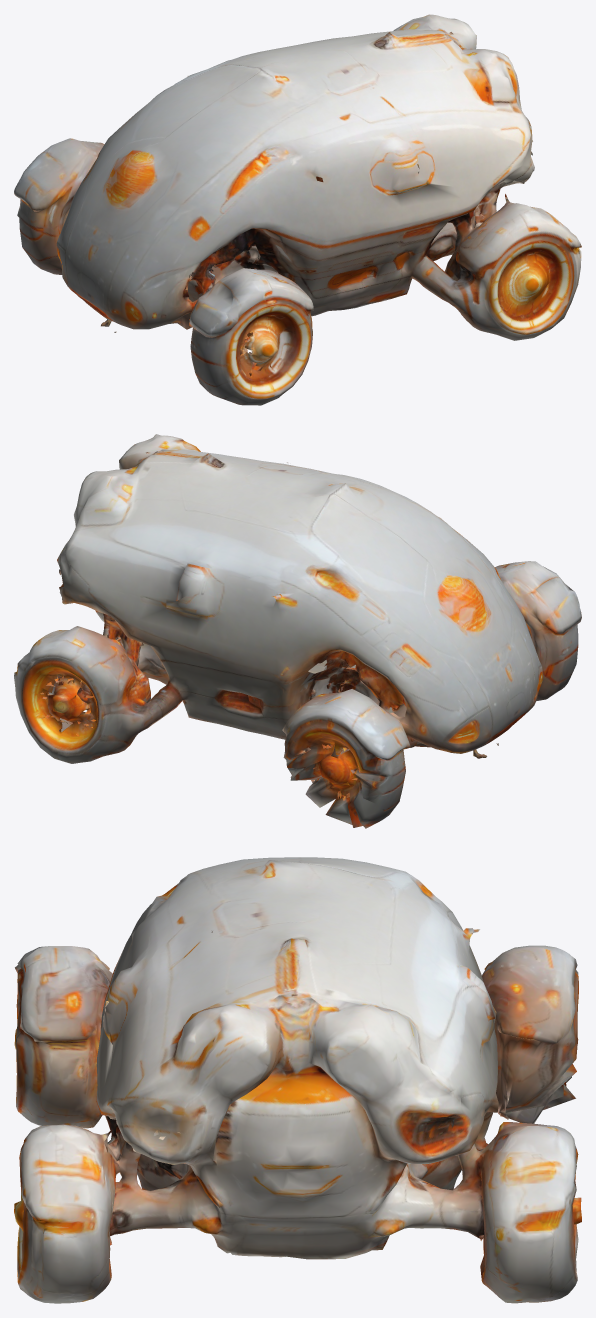
Rendered from cyber_rover.glb.
The picture shows the model from 3 angles, top to bottom: view 1: azimuth 30°, elevation 25°; view 2: azimuth 150°, elevation 25°; view 3: azimuth 270°, elevation 25°; orthographic projection. The views are drawn at different scales.
Bounding box in the file's own units: 1.99 × 1.16 × 1.8.
1 material, 1 textured.
